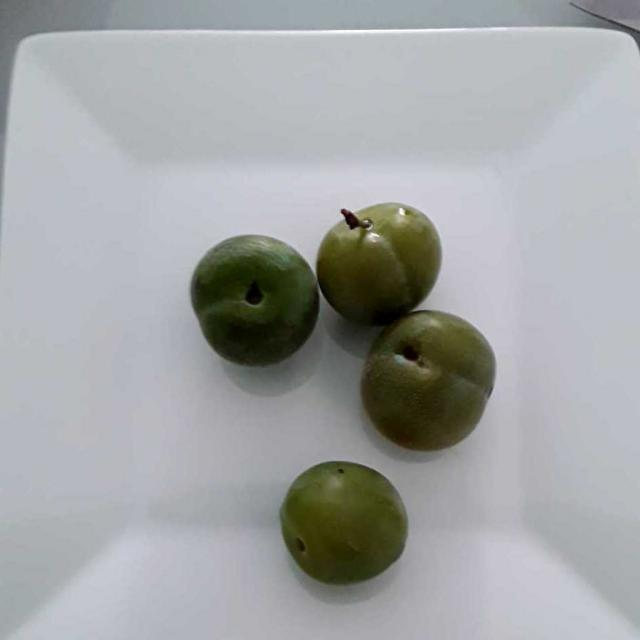plums: (180, 202, 502, 594)
